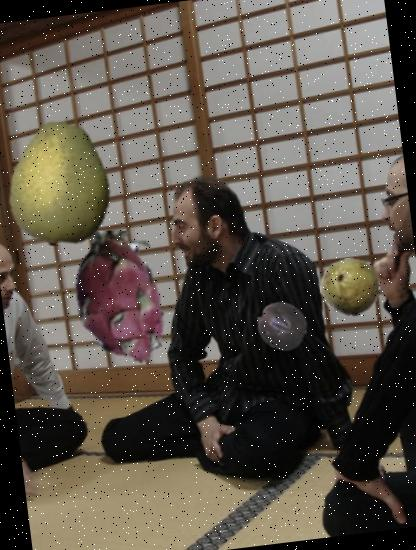Guava: (316, 255, 383, 322)
Passion: (253, 298, 311, 356)
Pear: (0, 108, 134, 253)
Pitahaya: (45, 224, 193, 372)
